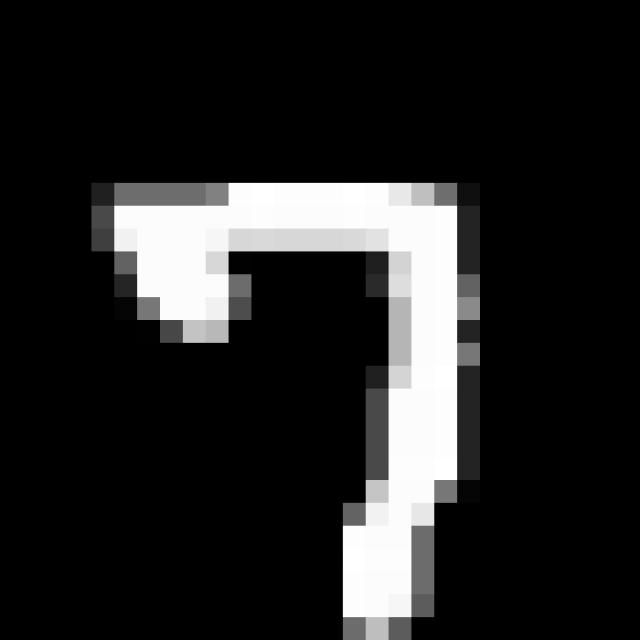seven -7-: (96, 164, 490, 640)
